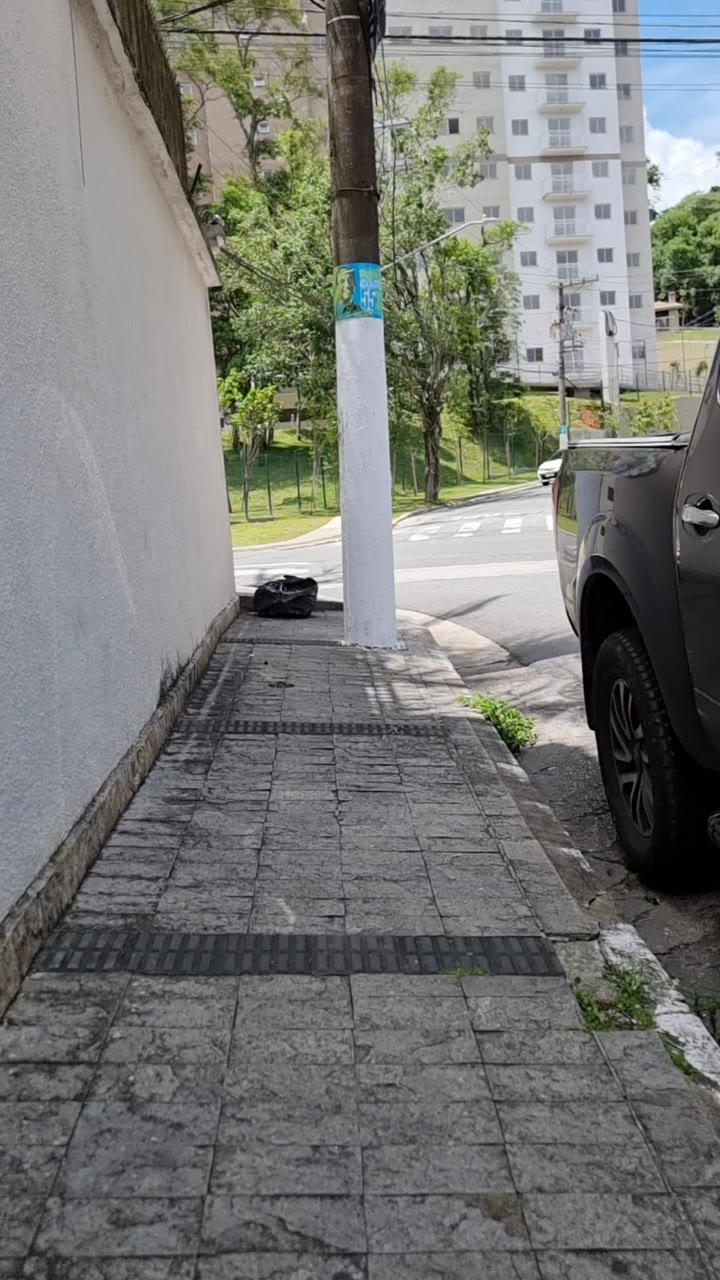obstaculo: (317, 0, 389, 627), (245, 602, 324, 653)
